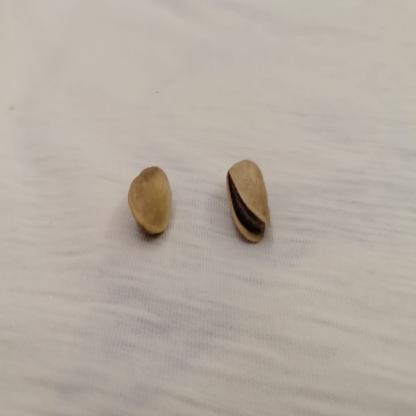pistachio: (223, 153, 274, 244), (130, 162, 179, 231)
